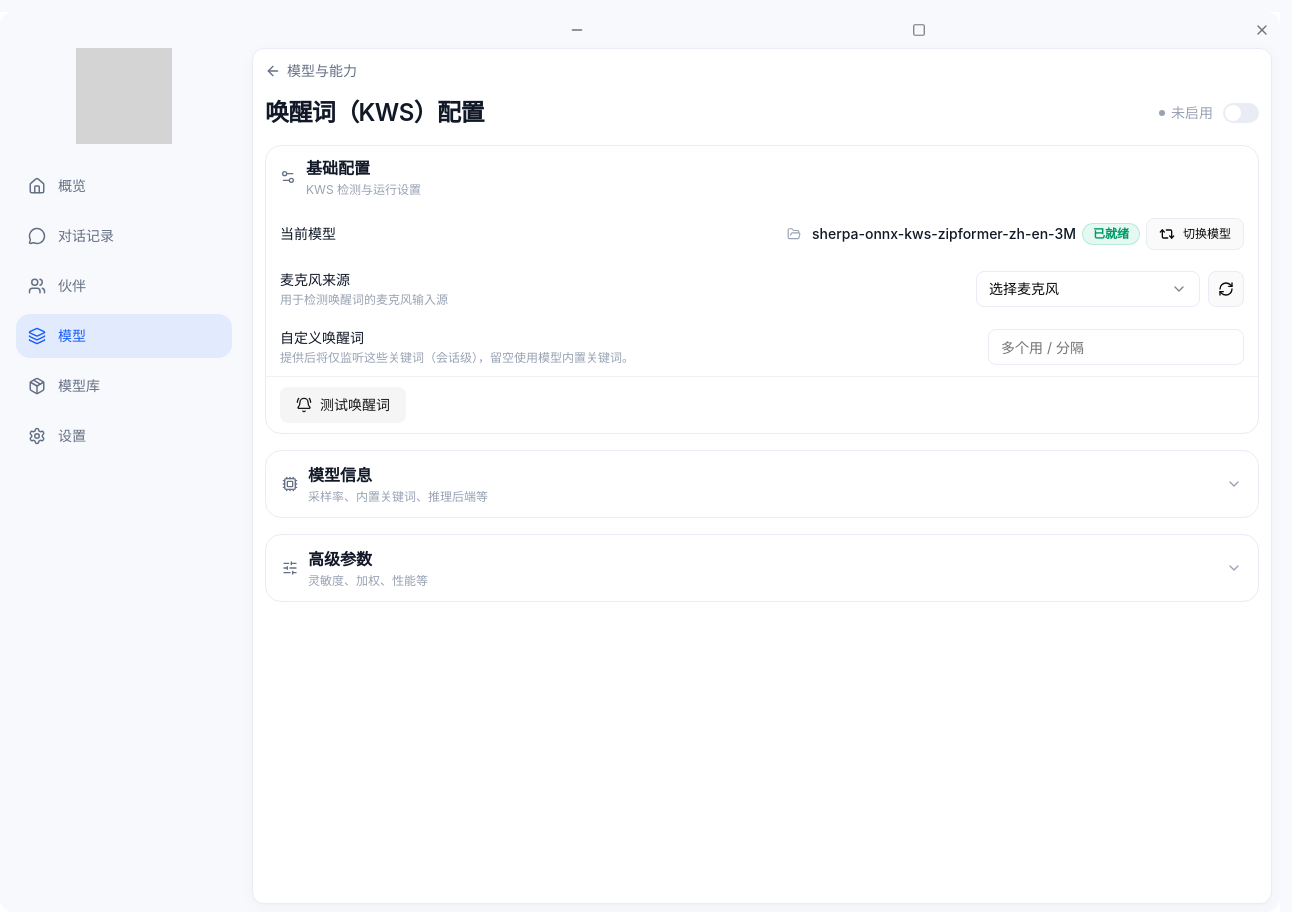
Scenario: KwsPage（唤醒词配置） › 自定义唤醒词在页面切换后保留（sessionKeywords 提升到路由外层）
This screenshot has width=1292, height=912.
In the field named "自定义唤醒词": point(1116, 347) [988,329,1244,365], type "你好小智"
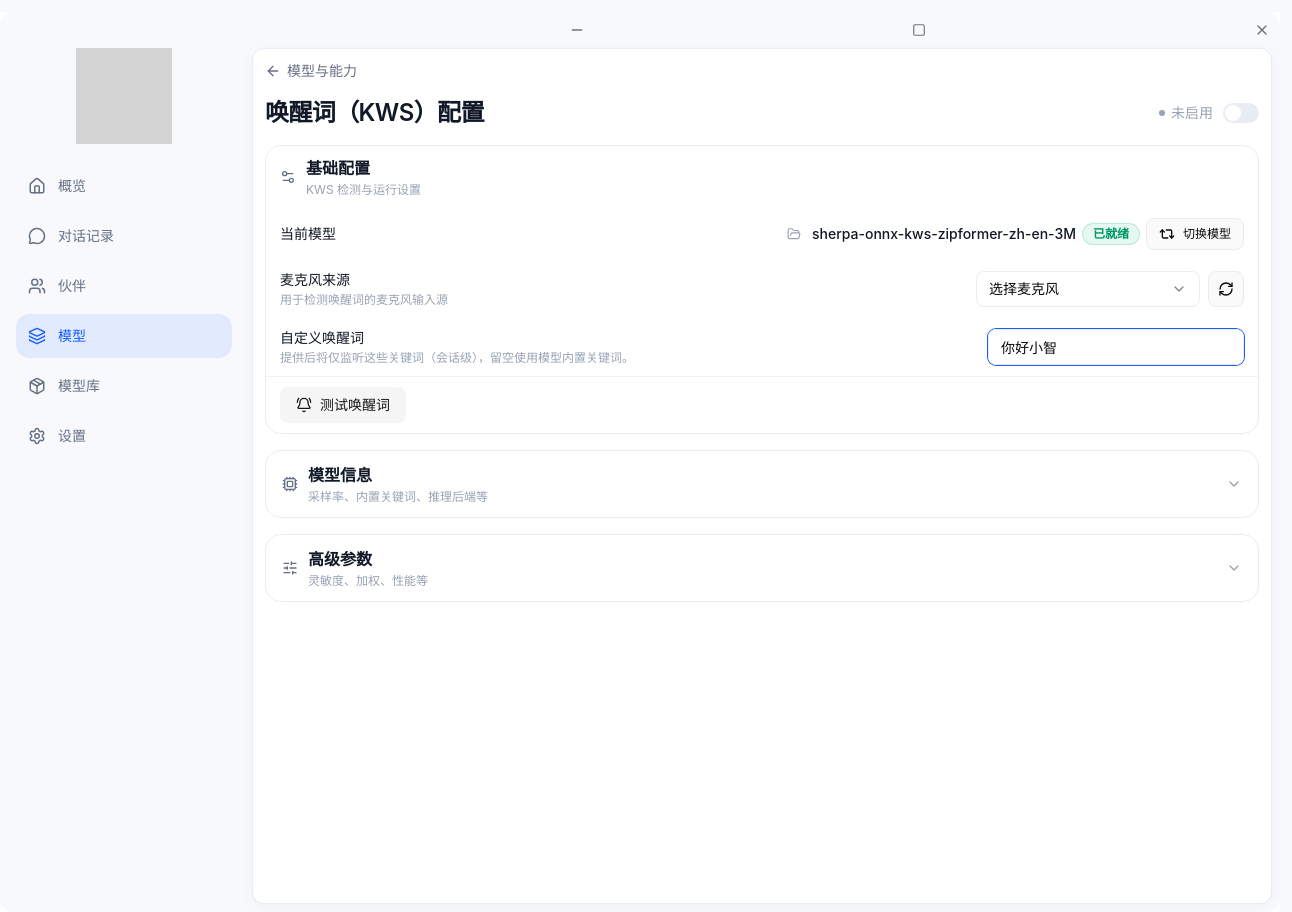
Click the link "模型与能力": point(311, 71) [265,61,357,81]
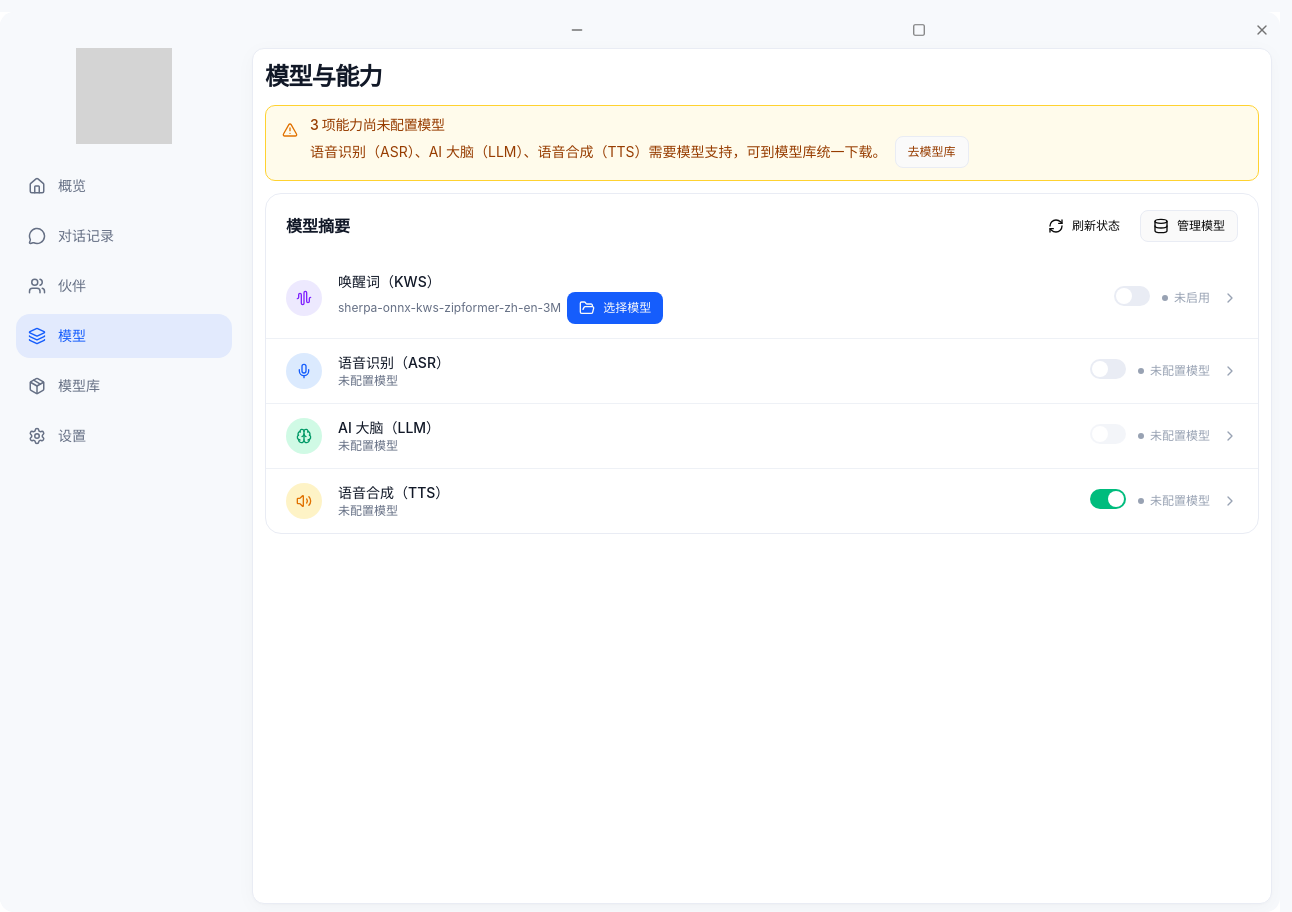
Result: the heading "模型摘要" is shown at [286,214,350,238]
切回 KWS 页：输入值仍在
Click the link with aria-label "配置唤醒词（KWS）": point(304, 298) [266,258,1258,339]
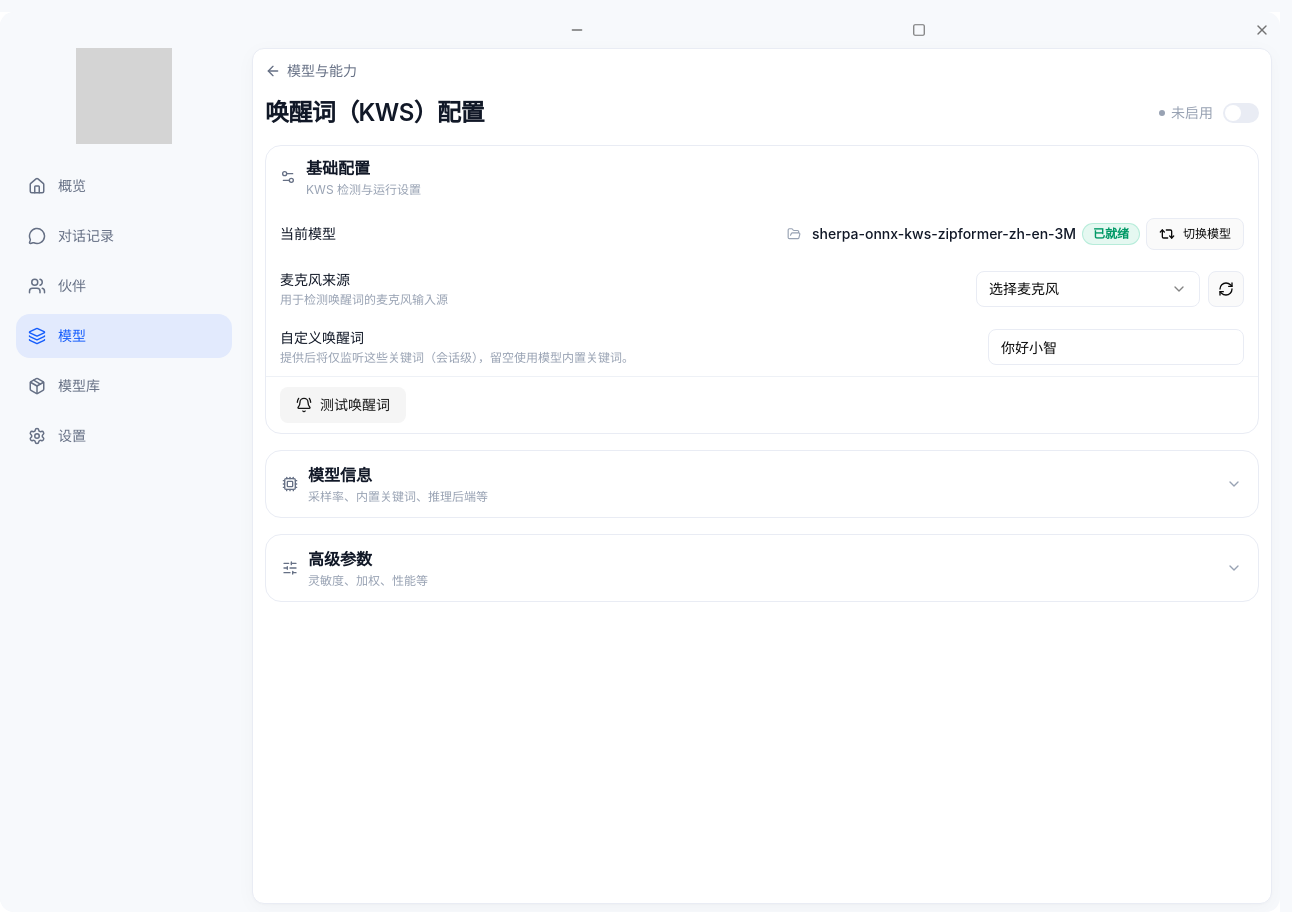
Result: the field named "自定义唤醒词" holds "你好小智" at [988,329,1244,365]
